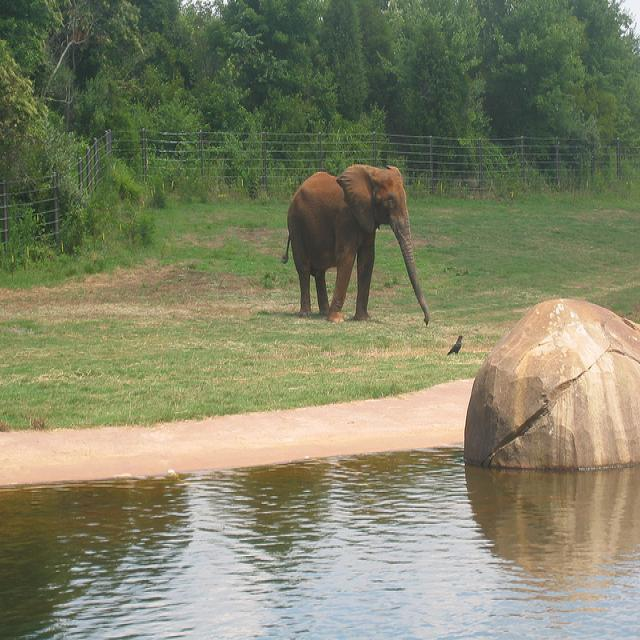Elephant: (281, 162, 430, 326)
